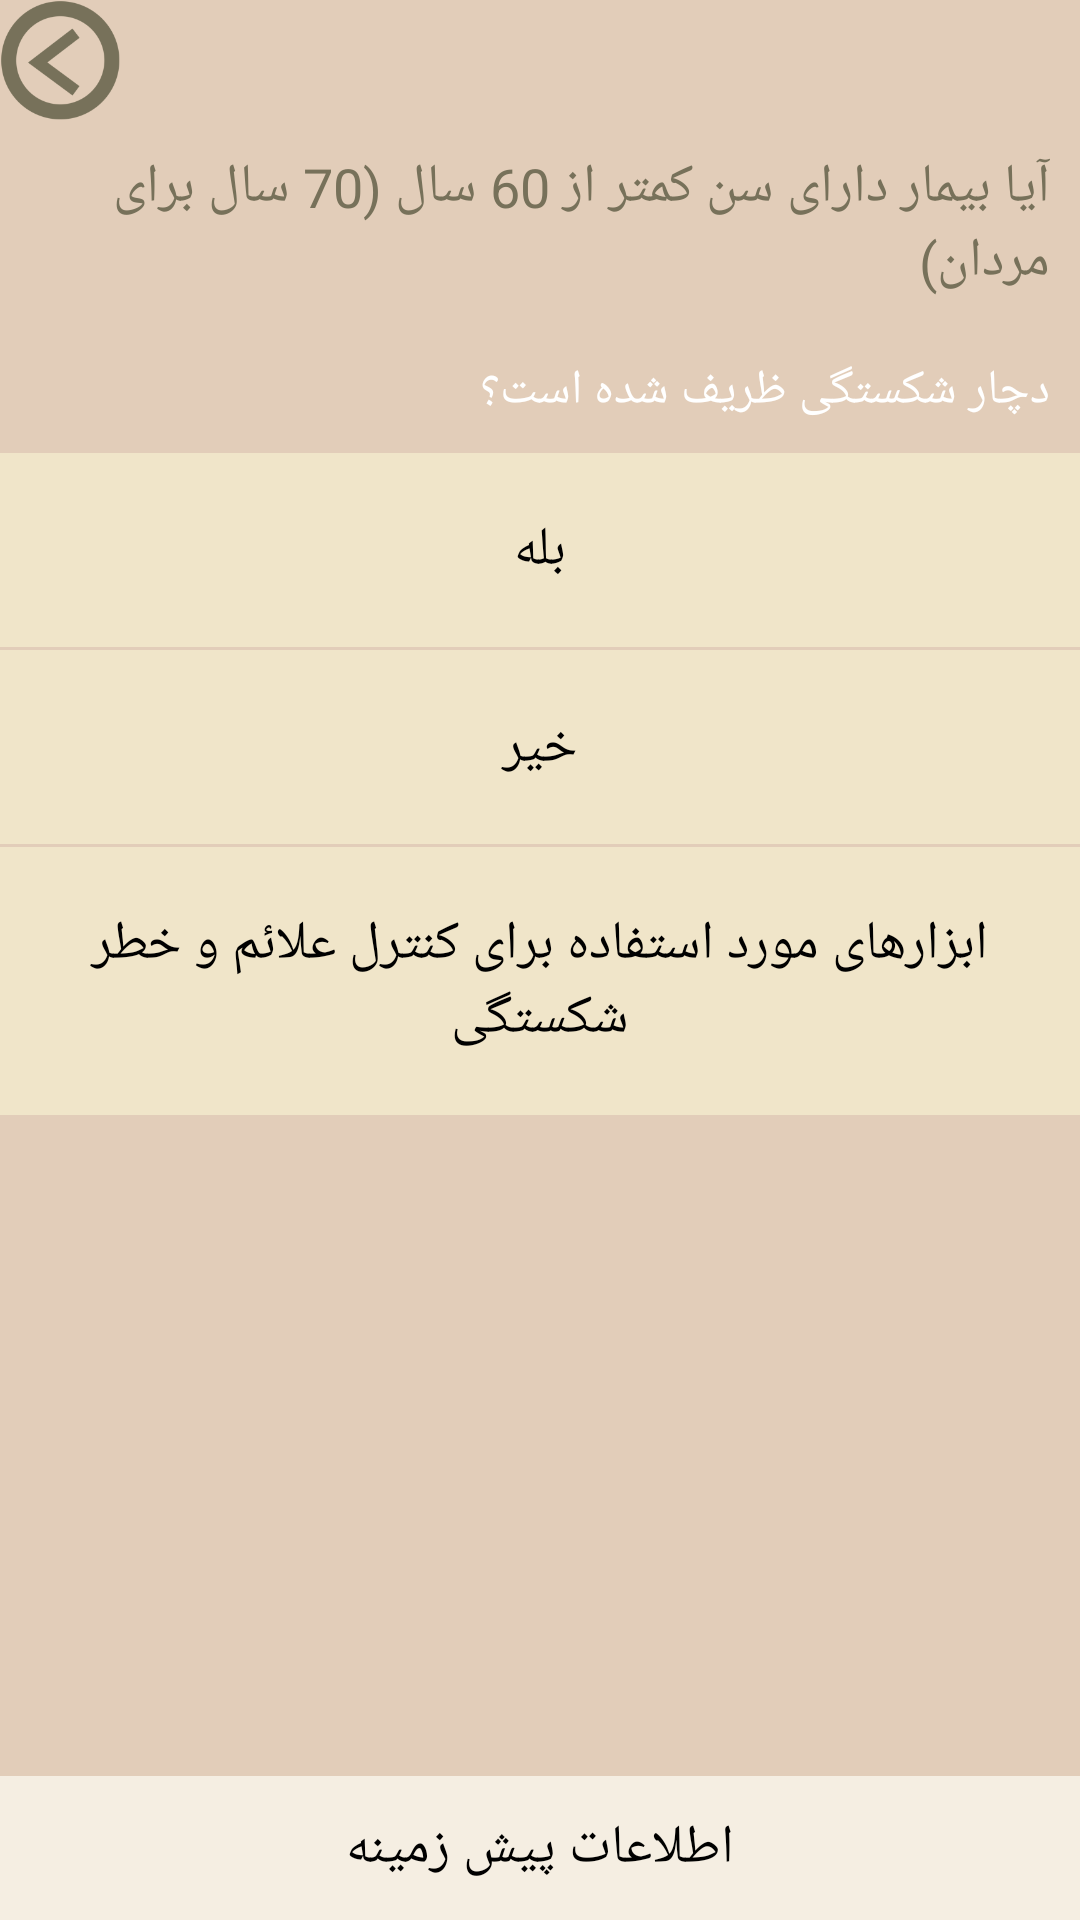

Where icons sit on this 1080px x 1920px app screen, as Rect(x1, y1, x2, y2):
arrow left: Rect(1, 1, 120, 120)
